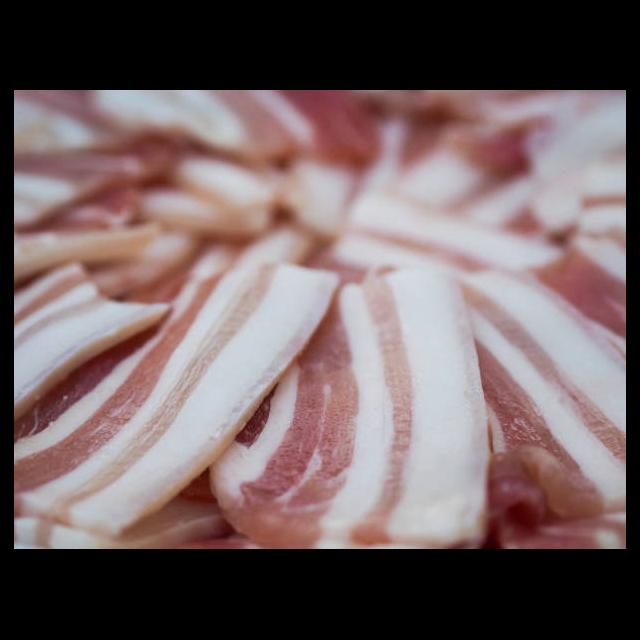pork: (104, 258, 329, 477), (325, 267, 490, 549)
